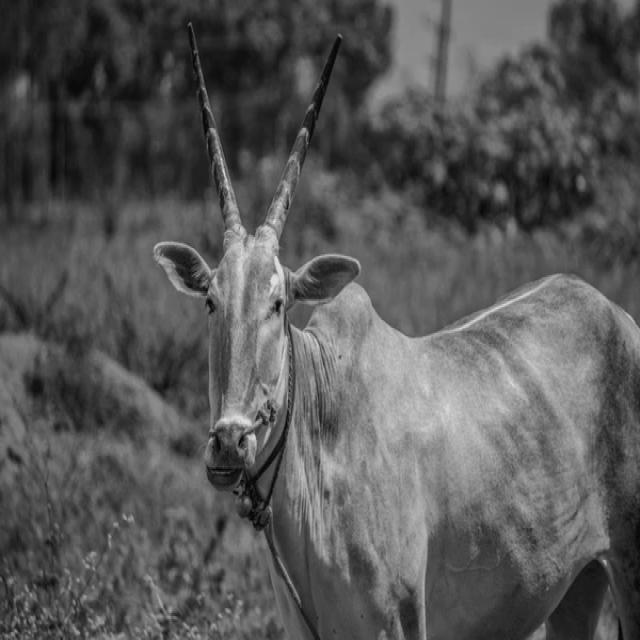Cow: (151, 19, 639, 638)
